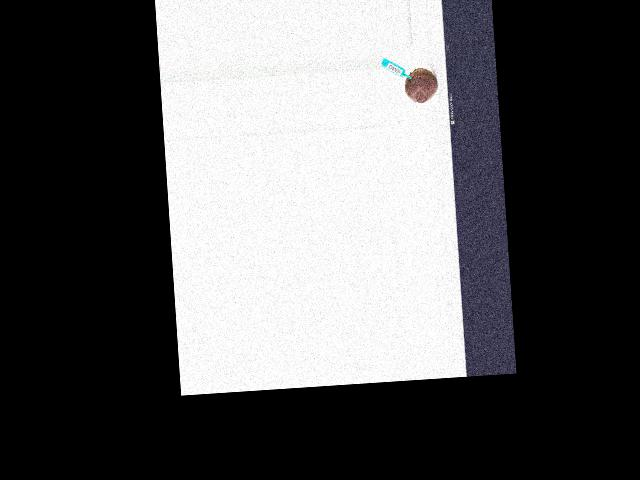beet: (403, 67, 438, 103)
